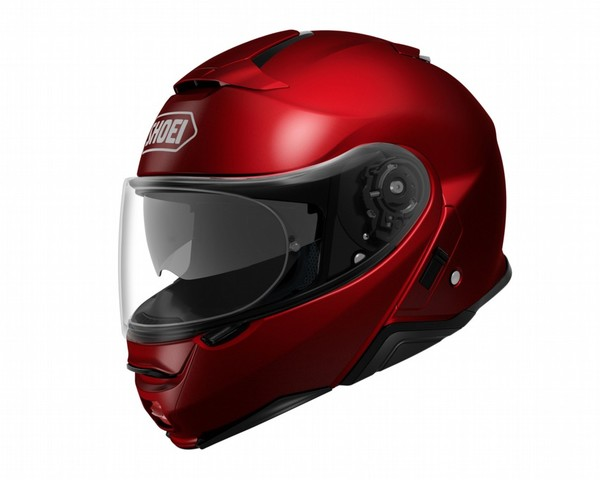with_helmet: (114, 27, 523, 454)
